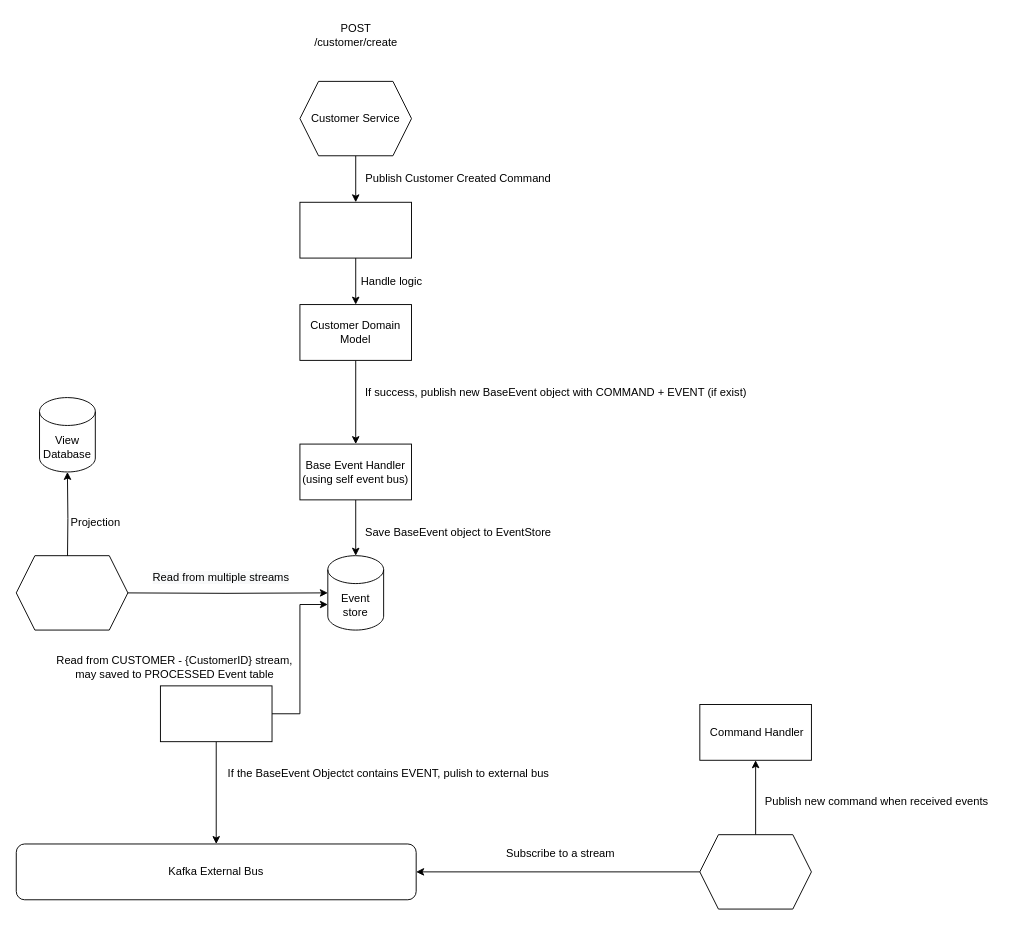
Some shapes in this 1014 by 925 pixel diagram are drawn without their labels. The centre of each missing label's shape, as x and y in pixels:
"Another Service" goes at (x=755, y=871).
"Customer Created Command Handler" goes at (x=355, y=229).
"Customer Kafka Event Process" goes at (x=215, y=713).
"Projection Service" goes at (x=71, y=592).
